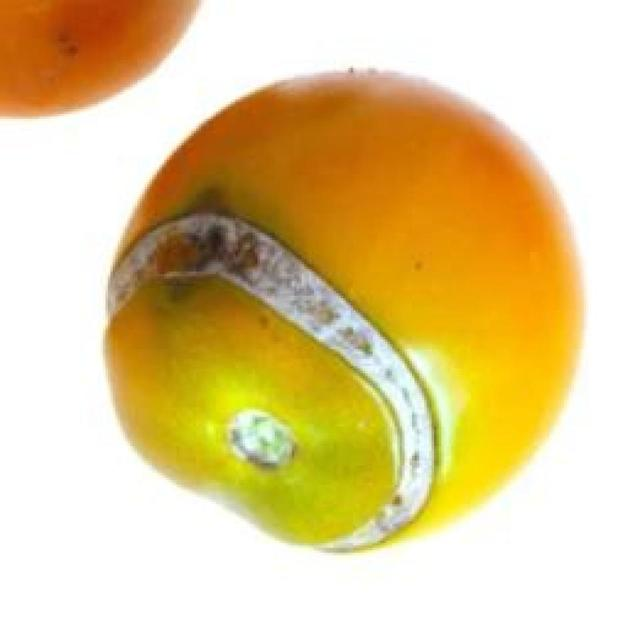Cracking Fruit: (66, 138, 307, 373)
